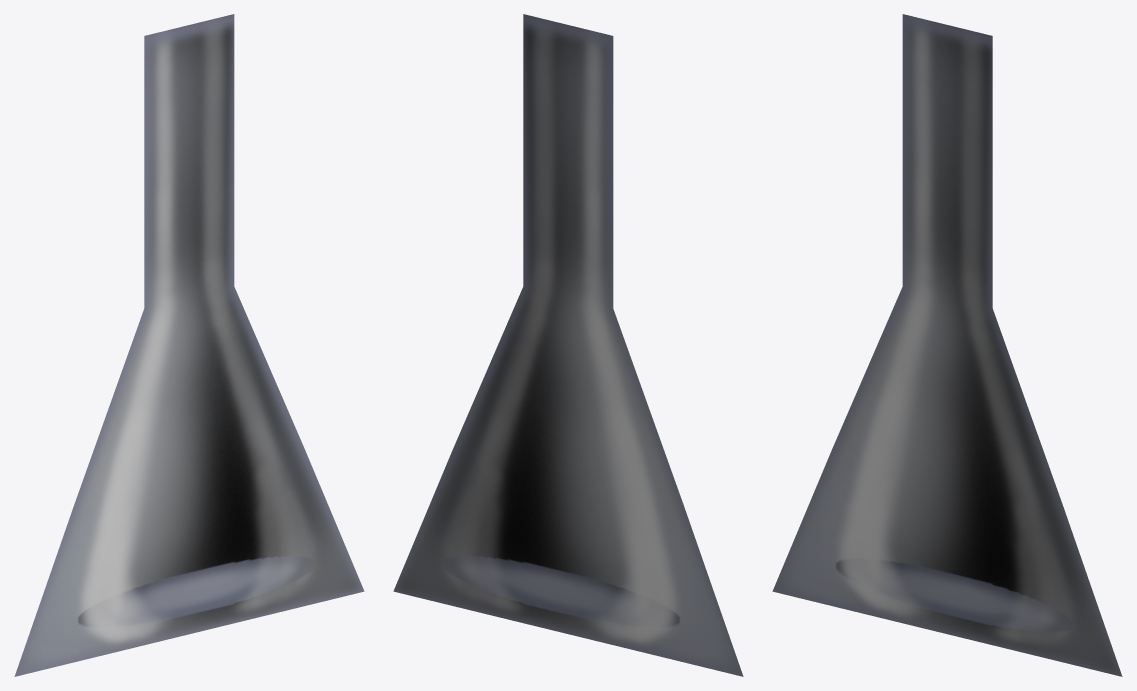
The model's file is SM_triangular flask.FBX.
The picture shows the model from 3 angles, left to right: view 1: azimuth 30°, elevation 25°; view 2: azimuth 150°, elevation 25°; view 3: azimuth 330°, elevation 25°; orthographic projection.
Parts seen in each view (by area): view 1: triangular flask; view 2: triangular flask; view 3: triangular flask.
Part boxes in pixels (x1,y1,x2,y2): triangular flask: (14, 14, 364, 676); triangular flask: (393, 14, 743, 676); triangular flask: (772, 14, 1122, 676).
Size of the model in its own units: 84.73 by 141 by 0.0835.
1 material, 1 textured.
